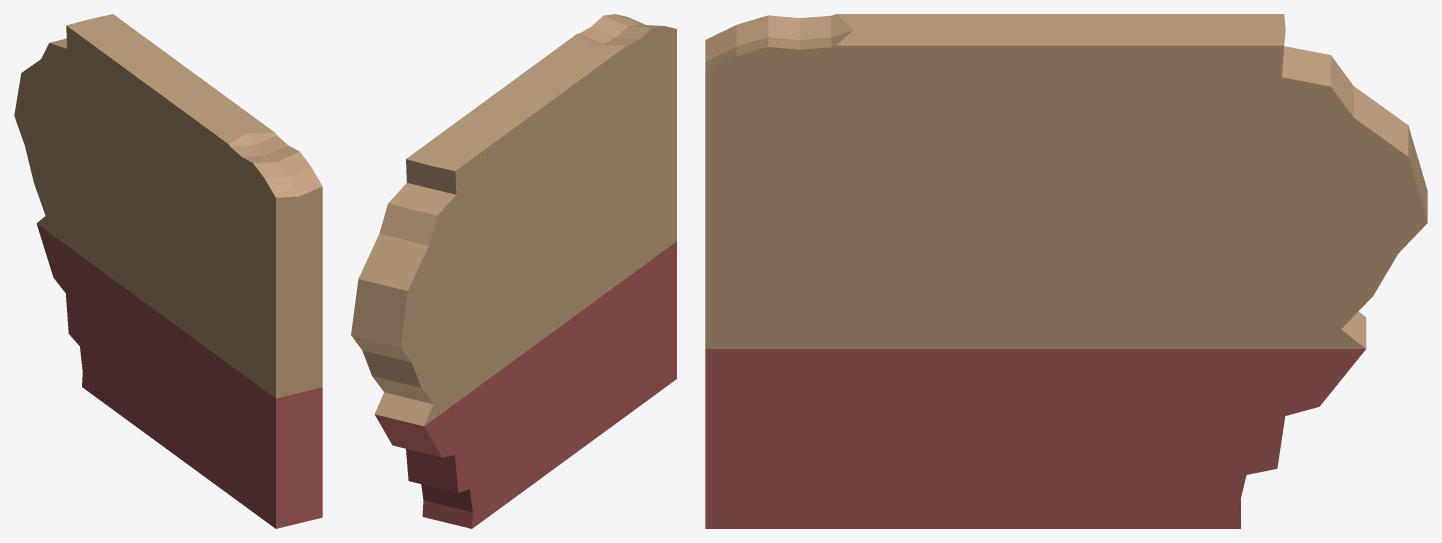
Rendered from Wall Broken 1.fbx.
3 renders of one model, left to right at view 1: azimuth 30°, elevation 25°; view 2: azimuth 150°, elevation 25°; view 3: azimuth 270°, elevation 25°, orthographic. The views are drawn at different scales.
Visible parts, largest first — view 1: Wall Broken 1; view 2: Wall Broken 1; view 3: Wall Broken 1.
Boxes of the visible parts, x1,y1,x2,y2 form: Wall Broken 1: [14, 14, 322, 528]; Wall Broken 1: [351, 14, 676, 528]; Wall Broken 1: [705, 14, 1427, 528].
Size of the model in its own units: 1355 by 1000 by 140.
